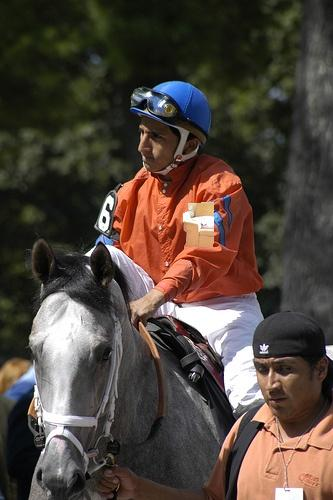tampered: (184, 203, 214, 247)
